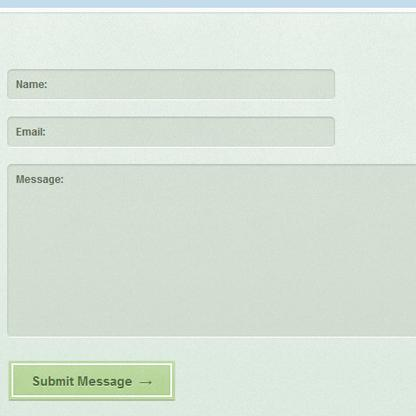button: (7, 359, 176, 402)
field: (6, 115, 336, 149), (6, 68, 336, 100)
